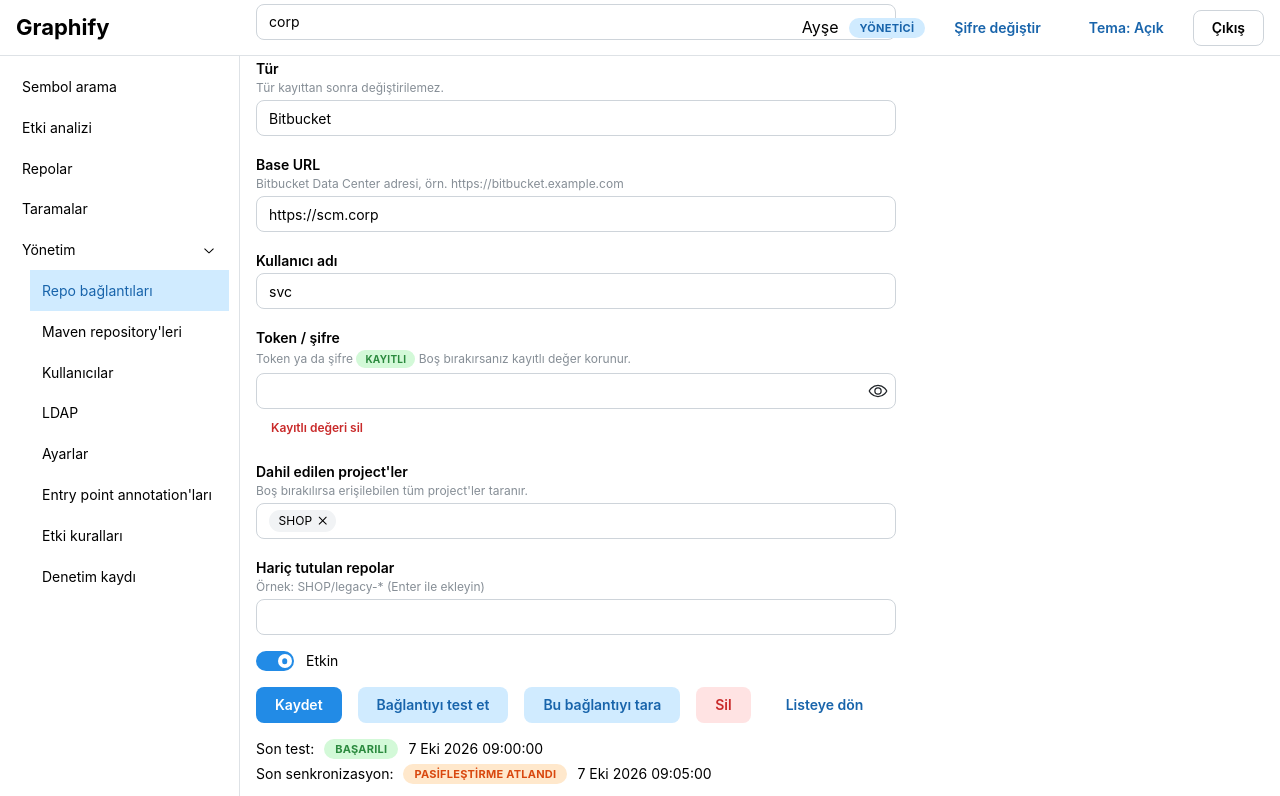
repo connections › keeps, clears and re-asks for the token
(page scrolled)
Expected: the password field labelled "Token / şifre" is empty, [257,374,895,408]
Expected: the text "Kayıtlı" is shown, [365,351,406,367]
Click the button "Kaydet". click: [299, 705]
box: [256,687,342,723]
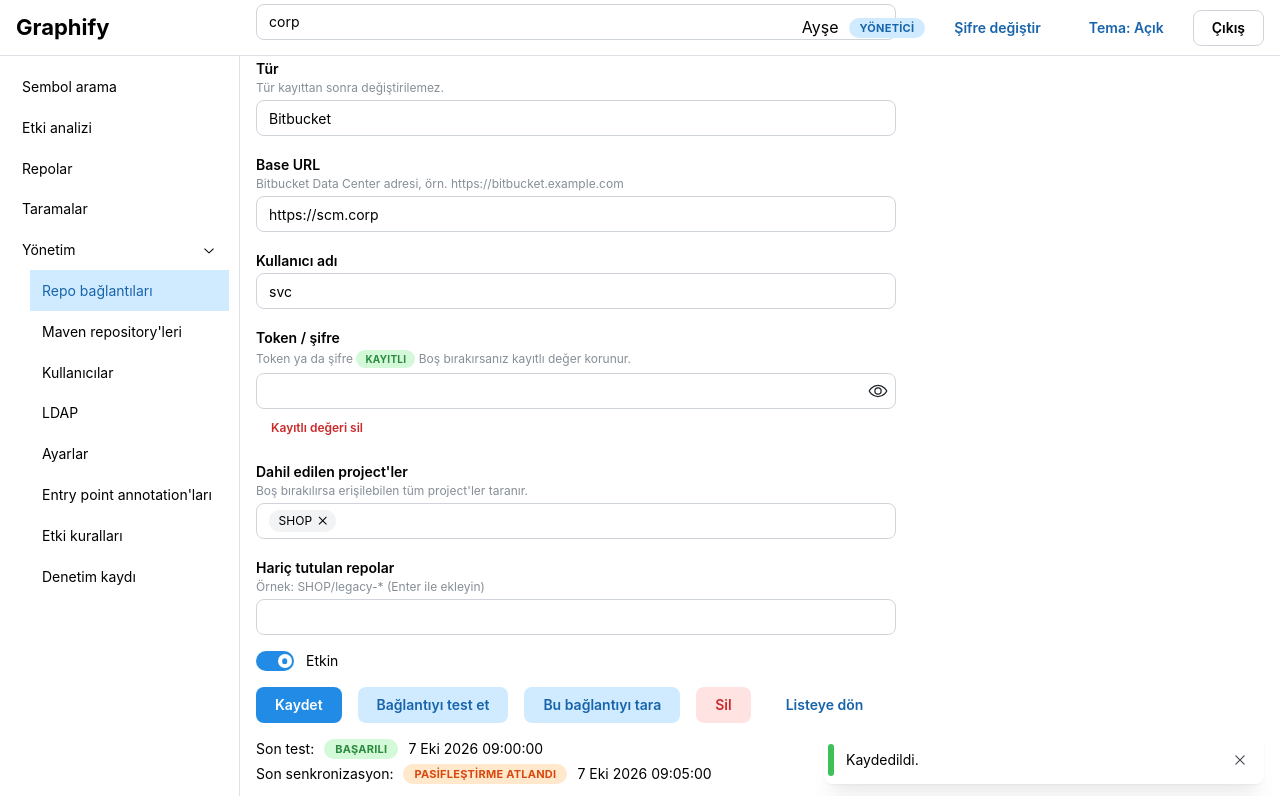
Click the button "Kayıtlı değeri sil". click: [317, 428]
box: [256,413,378,443]
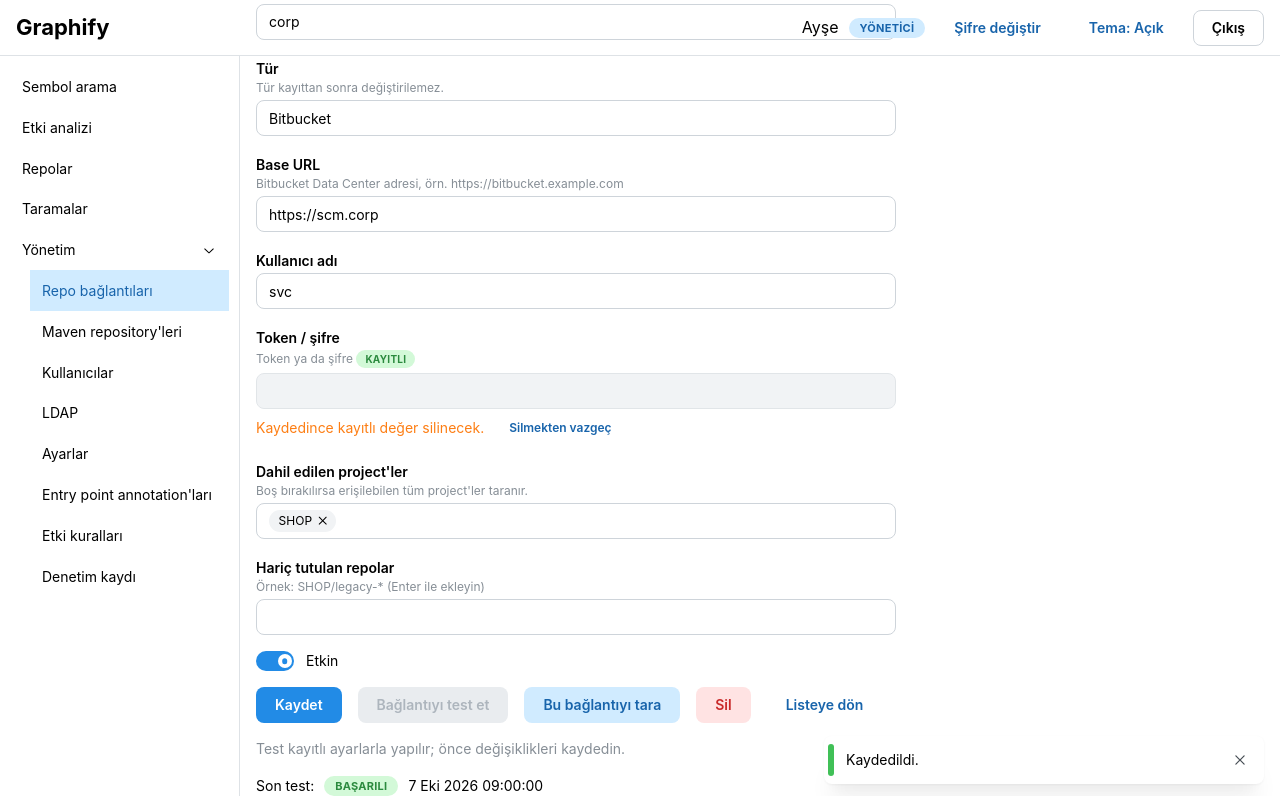
Click the button "Kaydet". click: [299, 705]
box: [256,687,342,723]
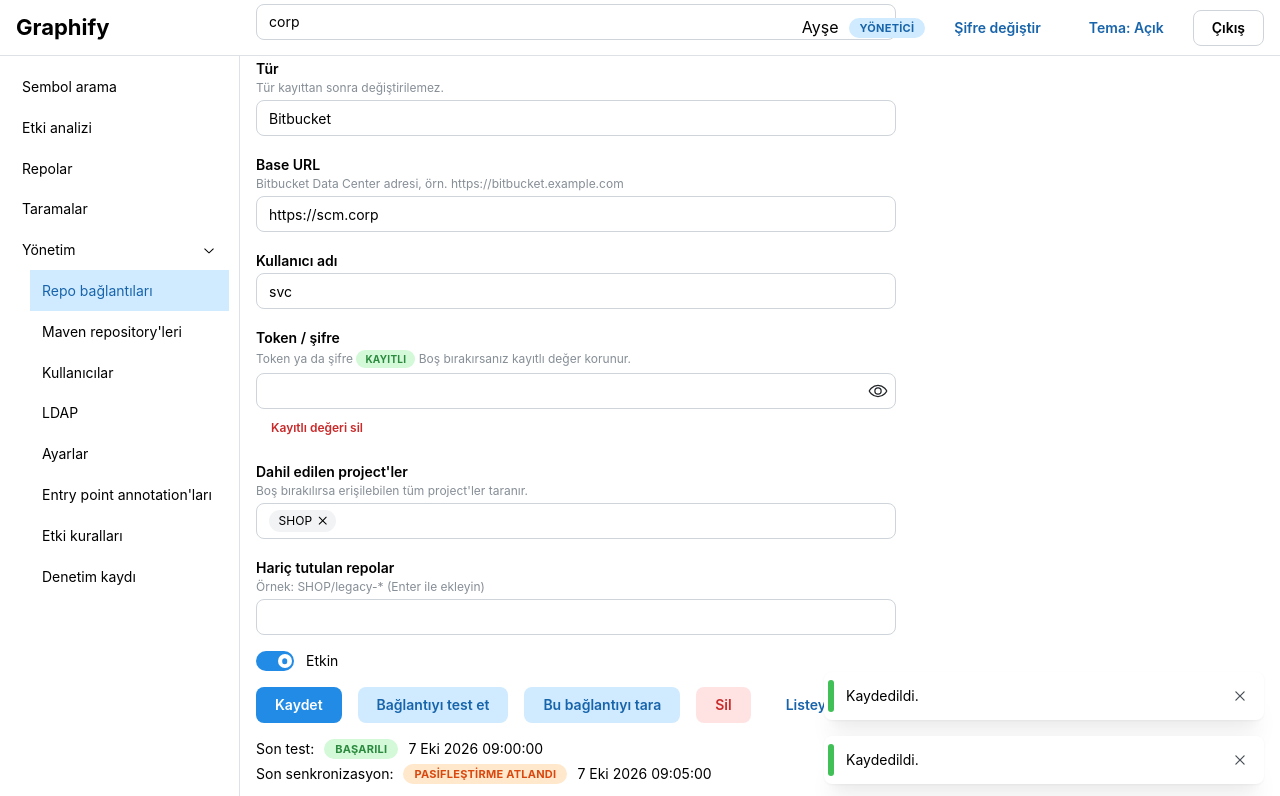
Replace the text in the field labelled "Base URL" with "https://other.corp". click: [576, 214]
box: [256,196,896,232]
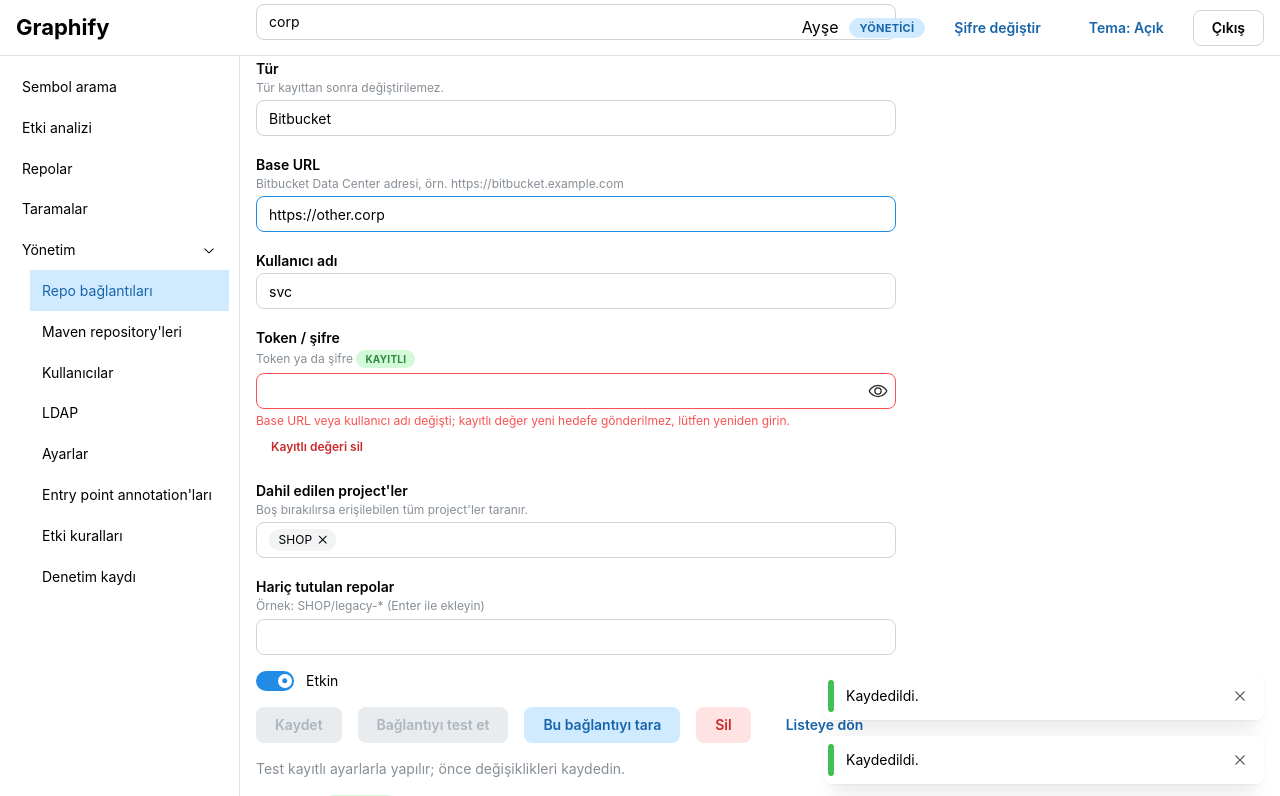
Expected: the button "Kaydet" is disabled, [256,707,342,743]
Type "new-token" into the password field labelled "Token / şifre". click: [576, 391]
box: [257,374,895,408]
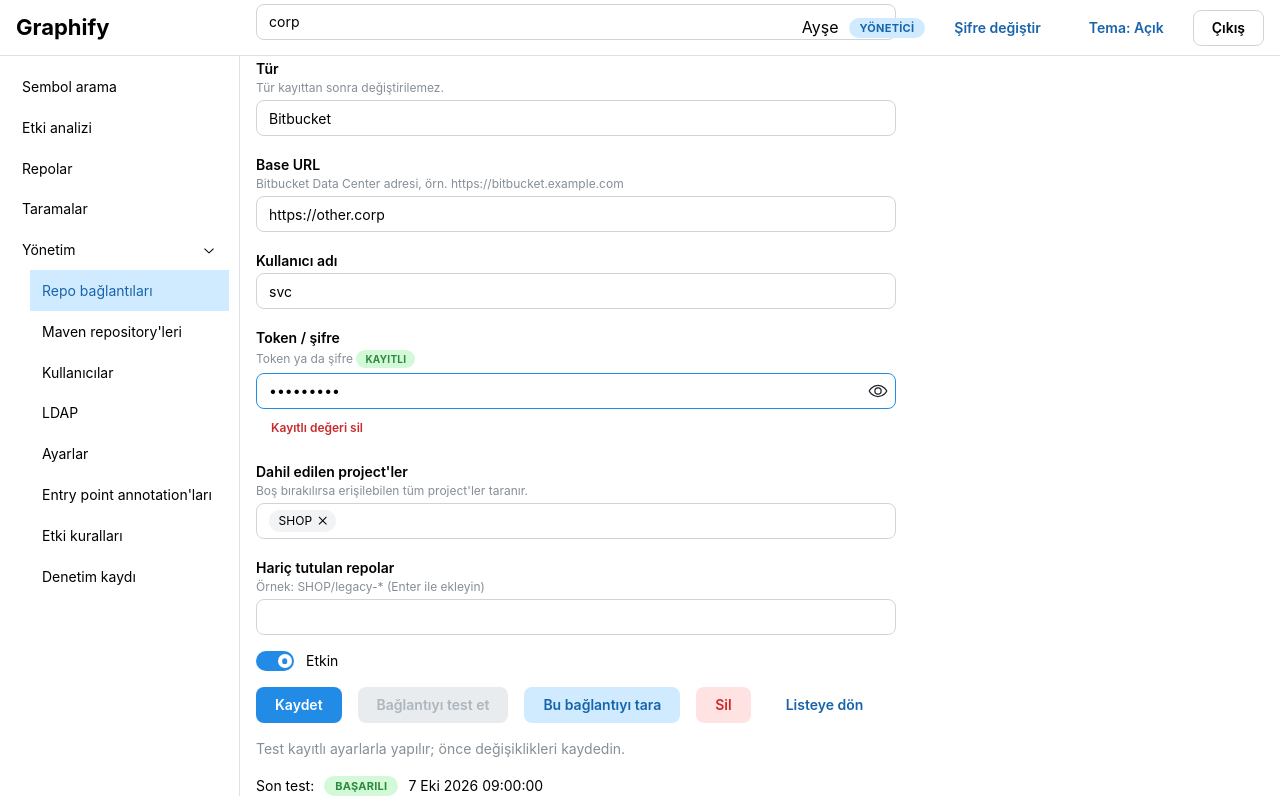
Expected: the button "Kaydet" is enabled, [256,687,342,723]
